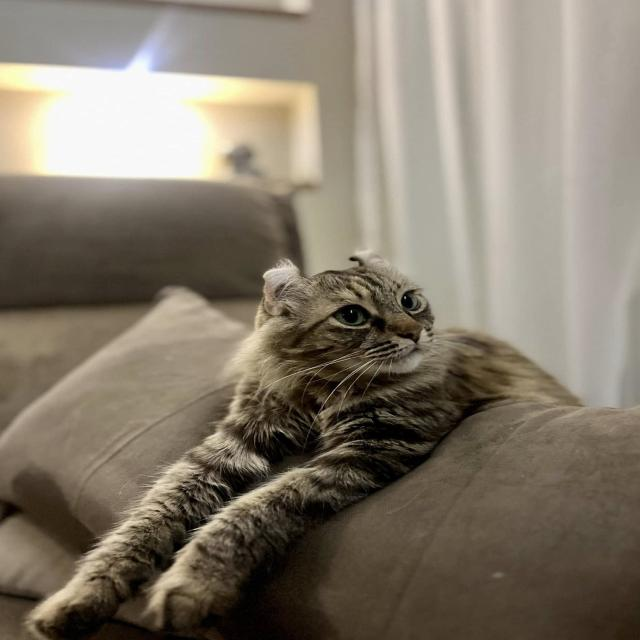American Curl: (20, 246, 588, 640)
